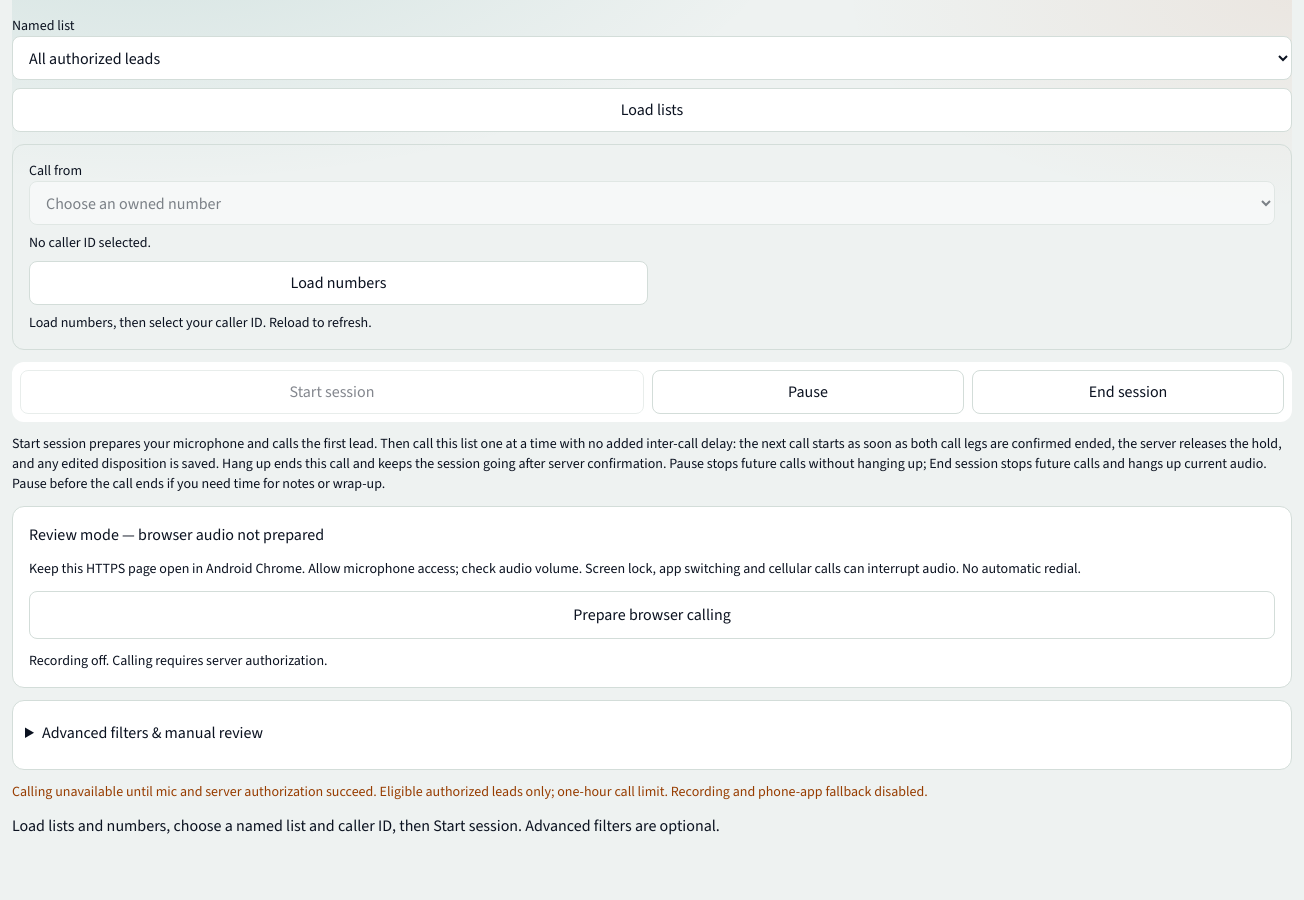
Test: real route rejection client is an unavailable UI, not a fabricated number
The width and height of the screenshot is (1304, 900).
Click the button "Load numbers".
click(338, 283)  # box x1=29 y1=261 x2=648 y2=305
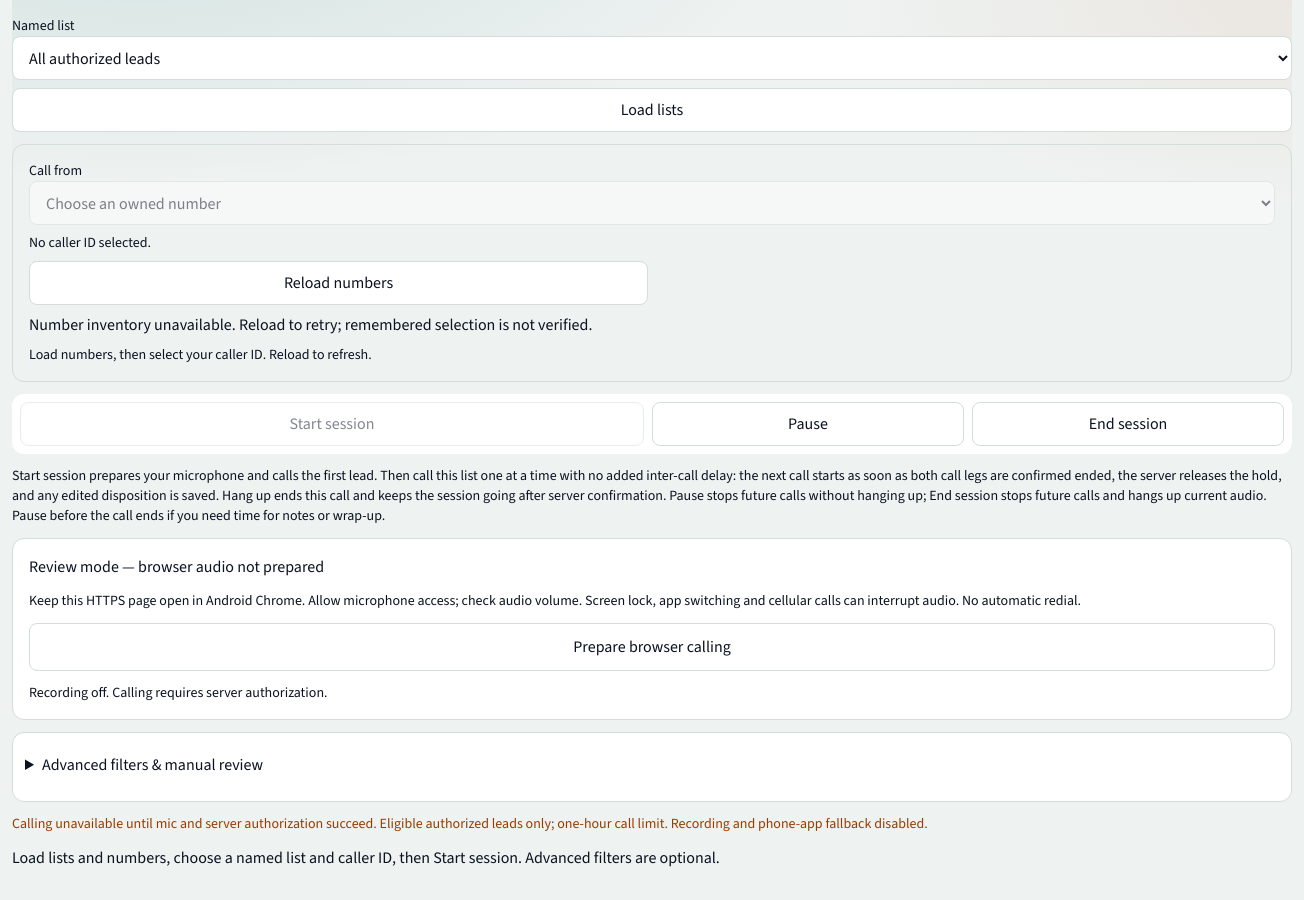
Expected: the dropdown labelled "Call from" shows "Choose an owned number", x1=29 y1=181 x2=1275 y2=225
Expected: the message shows "inventory unavailable", x1=29 y1=314 x2=592 y2=335
